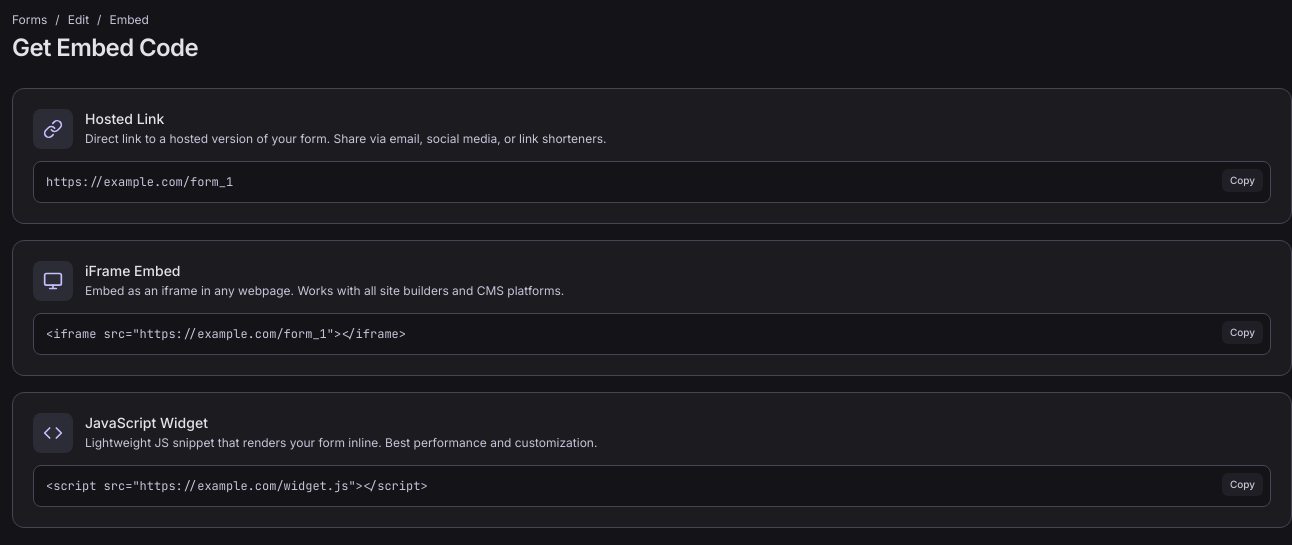
Test: GetEmbedCodePage › renders embed methods and copies code to the clipboard
Expected: the heading "Hosted Link" is shown, [85, 110, 164, 127]
Expected: the heading "iFrame Embed" is shown, [85, 262, 180, 279]
Click the button with aria-label "copy hosted link code": (1242, 180) [1222, 169, 1263, 192]
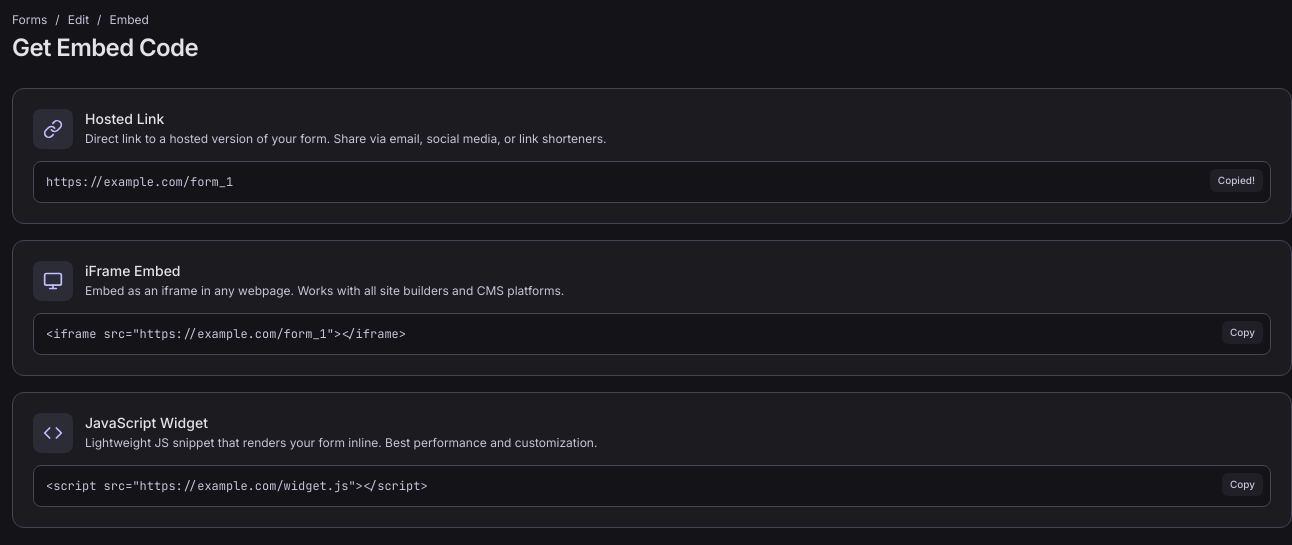
Expected: the button with aria-label "copy hosted link code" reads "Copied!", [1210, 169, 1263, 192]
